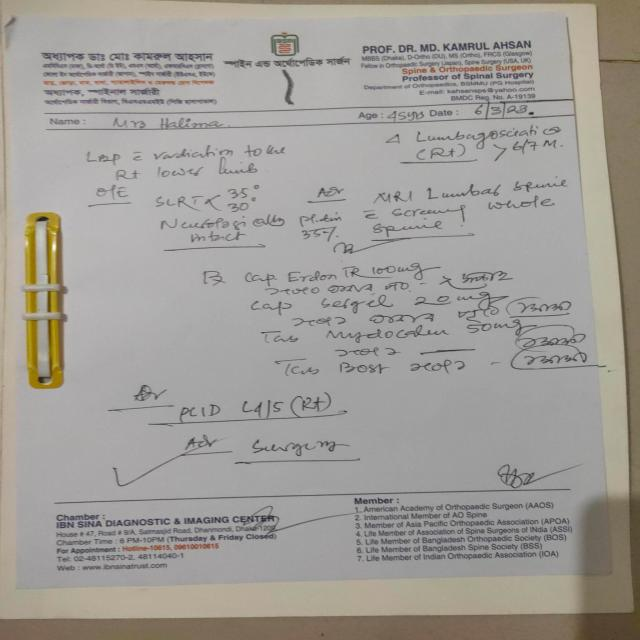Bost: (334, 358, 394, 379)
Erdon Tr: (281, 264, 368, 285)
Mydocalm: (322, 325, 451, 344)
Sergel: (315, 293, 397, 314)
